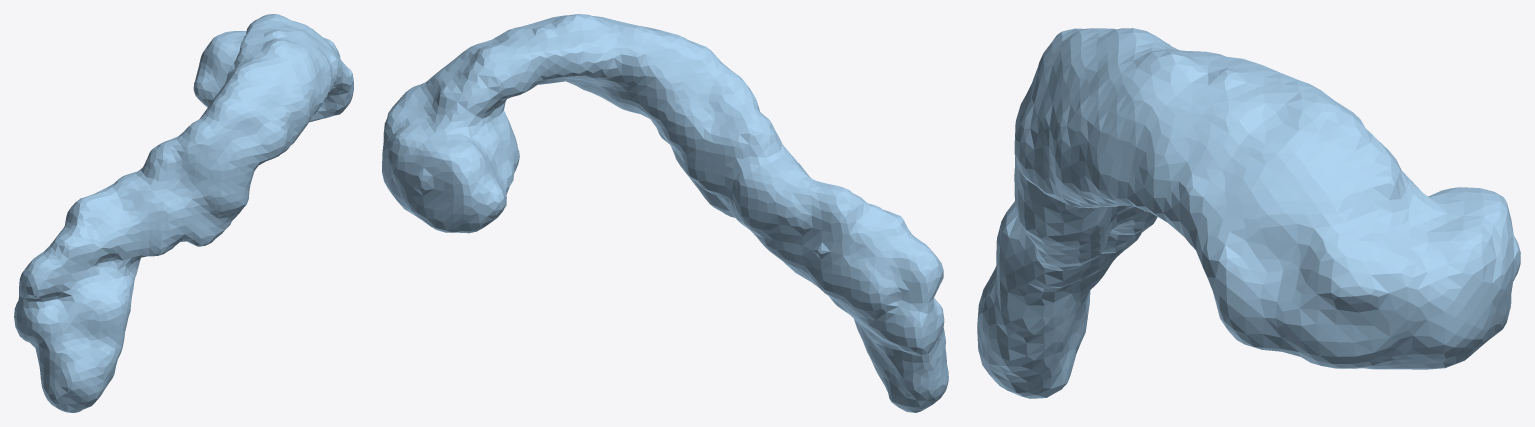
3 renders of one model, left to right at view 1: azimuth 30°, elevation 25°; view 2: azimuth 150°, elevation 25°; view 3: azimuth 270°, elevation 25°, orthographic. The views are drawn at different scales.
Visible parts, largest first — view 1: world; view 2: world; view 3: world.
Part boxes in pixels (left/top/right/bottom): world: left=14, top=14, right=353, bottom=412; world: left=382, top=14, right=948, bottom=412; world: left=977, top=28, right=1520, bottom=398.
Bounding box in the file's own units: 0.7483 × 0.5433 × 0.4654.
